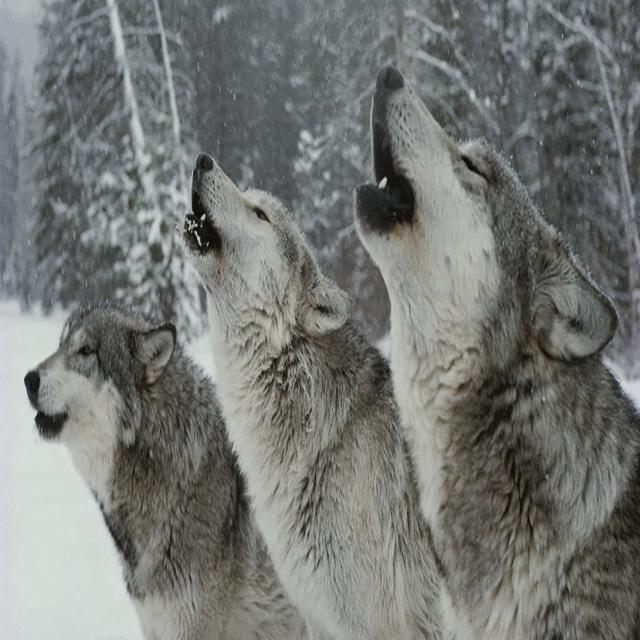Wolf: (351, 62, 639, 638), (180, 149, 444, 638), (23, 296, 310, 638)
